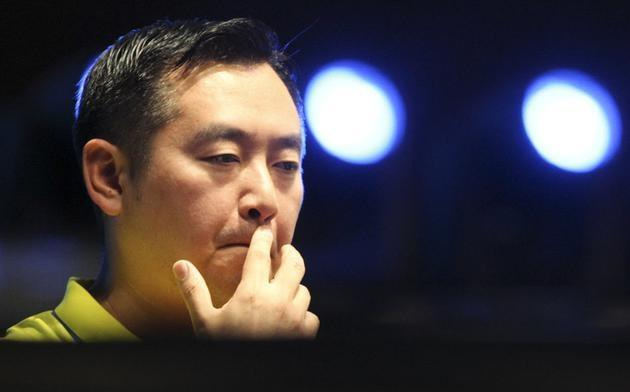face: (144, 72, 312, 311)
